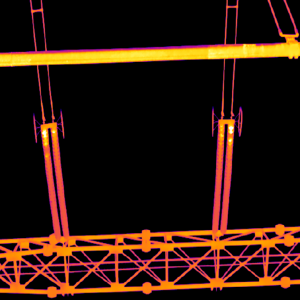insulator: (40, 123, 68, 240), (210, 118, 235, 233)
